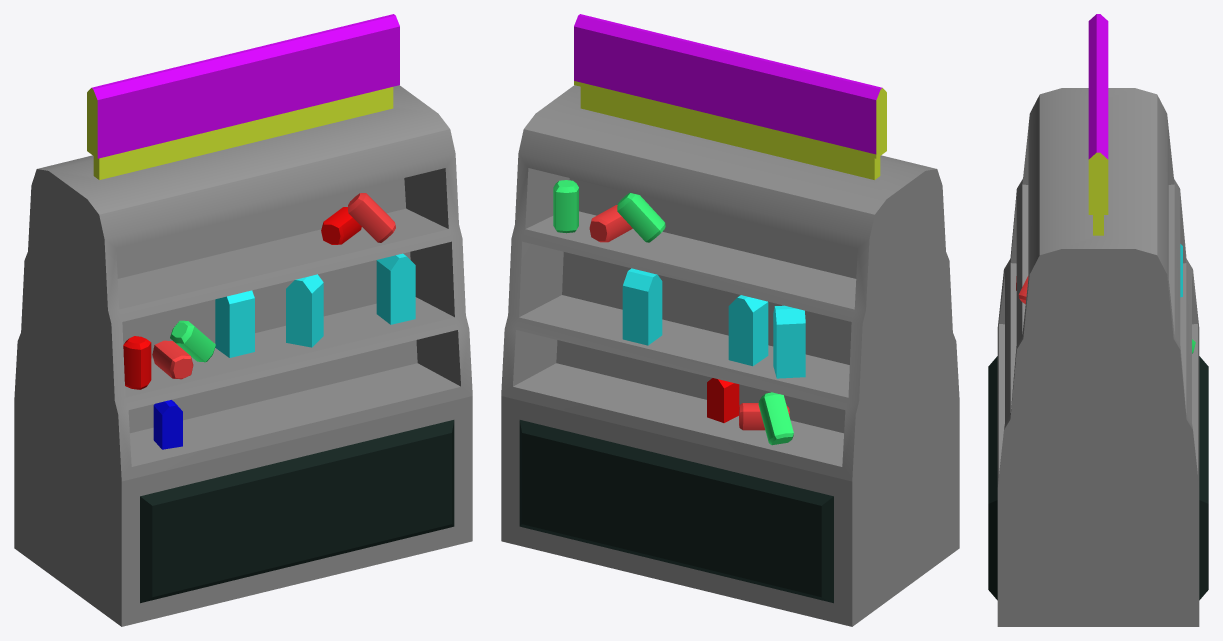
File: produceShelf.FBX
3 renders of one model, left to right at view 1: azimuth 30°, elevation 25°; view 2: azimuth 150°, elevation 25°; view 3: azimuth 270°, elevation 25°, orthographic. The views are drawn at different scales.
Visible parts, largest first — view 1: produceShelf; view 2: produceShelf; view 3: produceShelf.
Part boxes in pixels (x1=…): produceShelf: x1=14, y1=14, x2=472, y2=626; produceShelf: x1=501, y1=14, x2=959, y2=626; produceShelf: x1=988, y1=14, x2=1208, y2=626.
Size of the model in its own units: 47.05 by 63.15 by 27.25.
